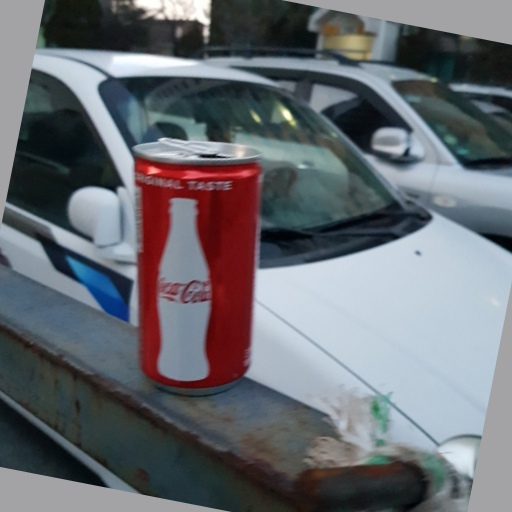Metal_0: (131, 134, 260, 395)
